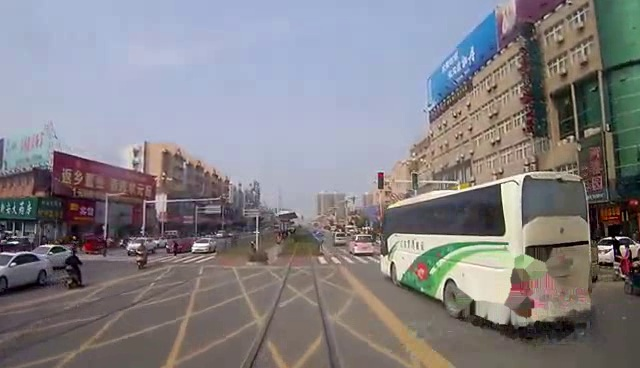bus: (378, 172, 592, 327)
car: (0, 250, 54, 294), (26, 242, 75, 268)
motorcycle: (64, 251, 86, 290), (135, 243, 152, 271)
